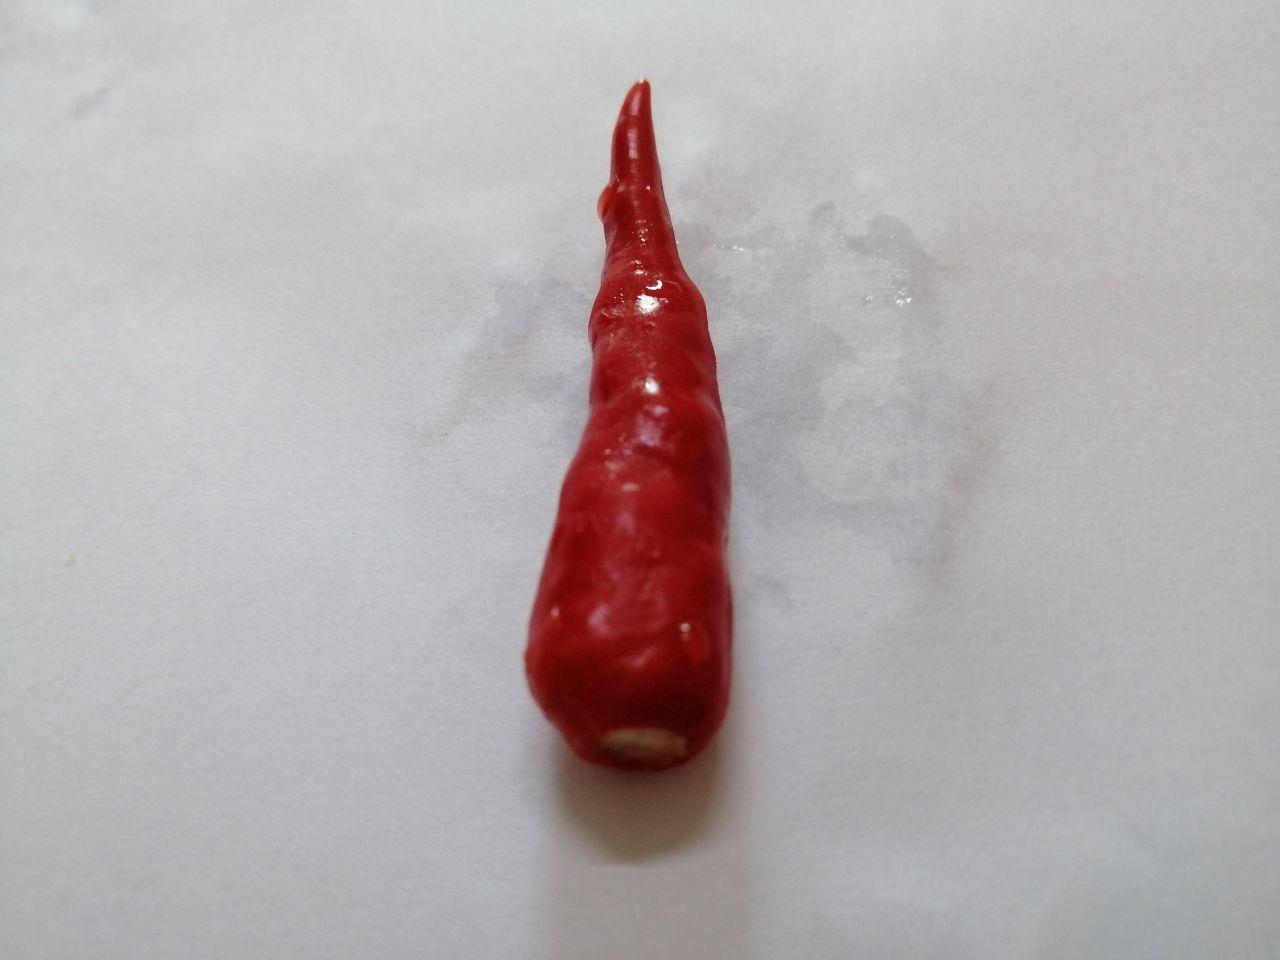lada merah: (506, 50, 774, 799)
